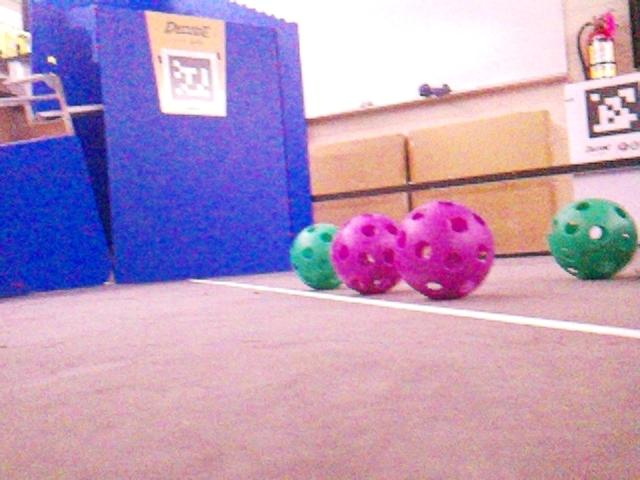Green: (545, 196, 637, 279), (289, 223, 342, 289)
Purple: (396, 199, 496, 298), (330, 213, 405, 294)
